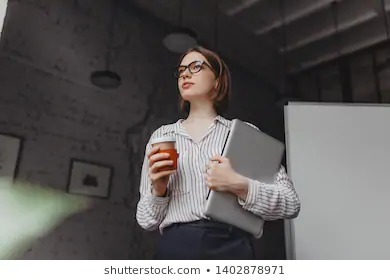S_blouse: (126, 110, 304, 235)
